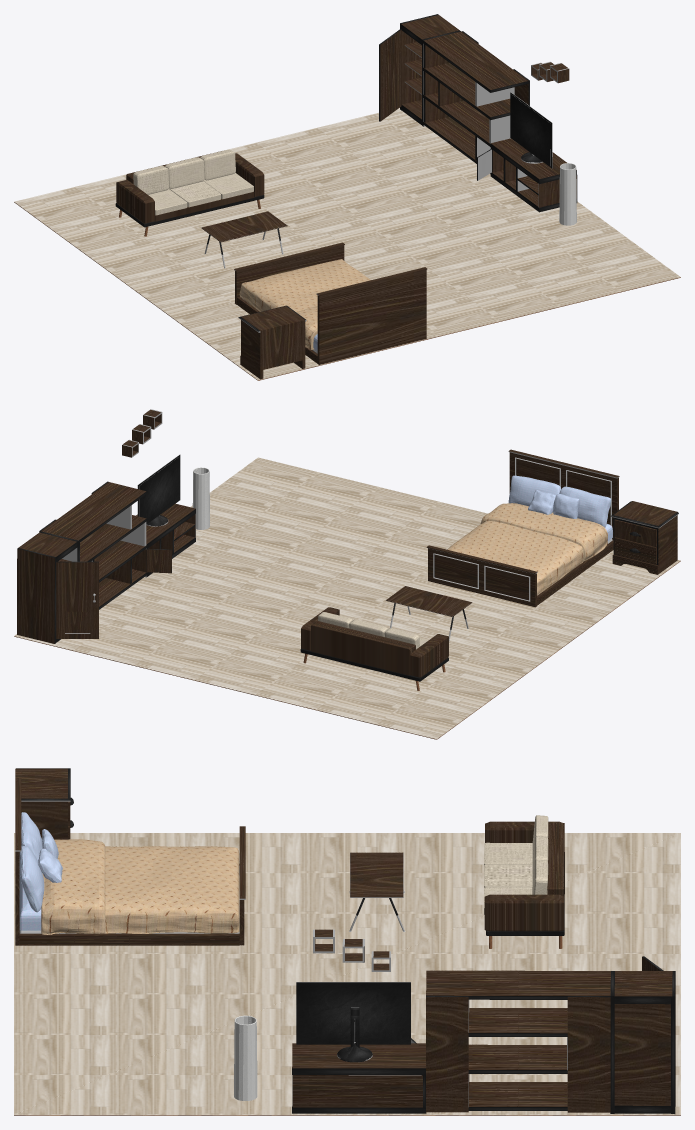
The model's file is T1 Set 2 Pos 10.glb.
3 views of the same model, one above another, from view 1: azimuth 30°, elevation 25°; view 2: azimuth 150°, elevation 25°; view 3: azimuth 270°, elevation 25° (orthographic). The views are drawn at different scales.
Size of the model in its own units: 0.2923 by 0.0855 by 0.292.
10 materials, 9 textured.
